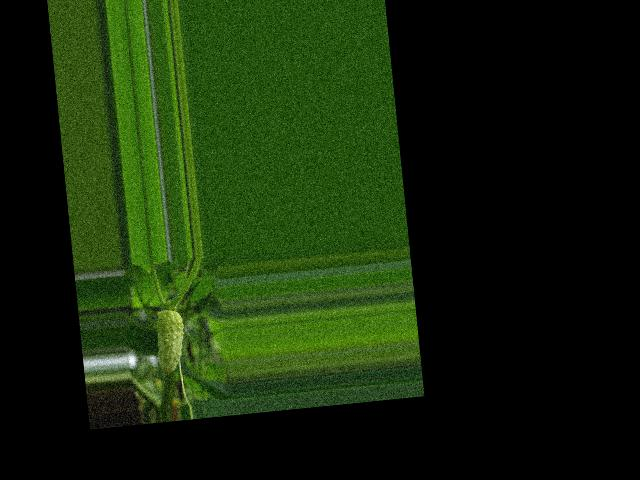cucumber: (154, 308, 188, 375)
